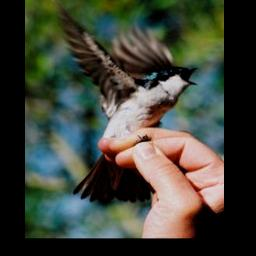Swallow: (47, 0, 201, 203)
